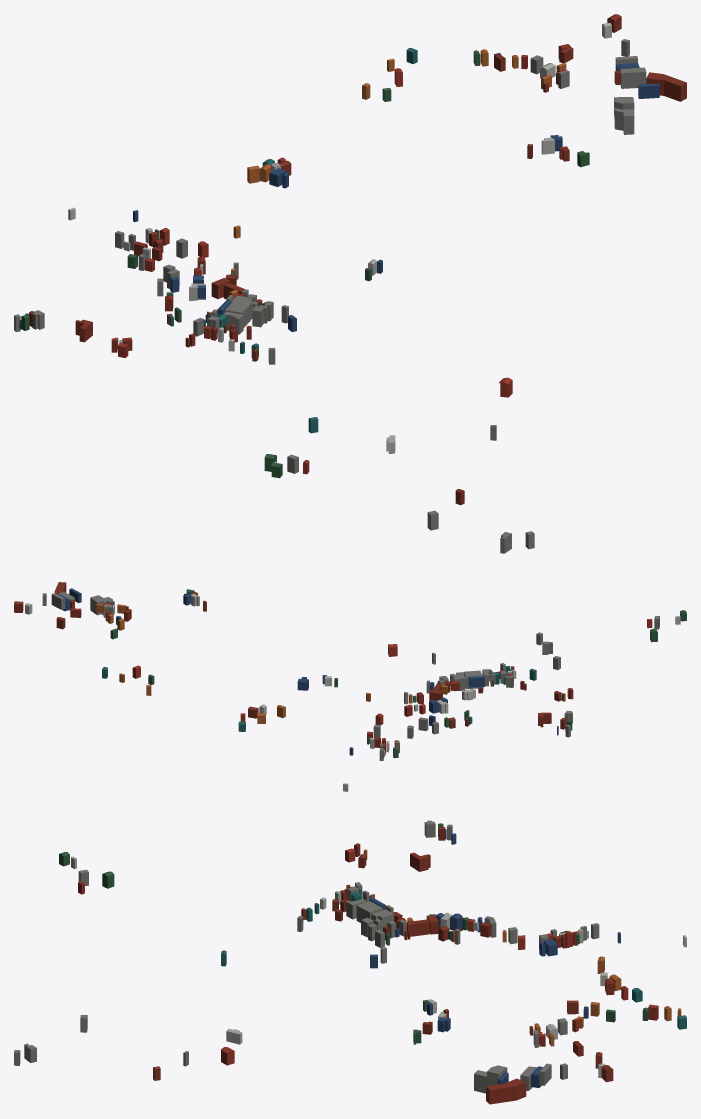
File: near-15-27366-14877.628904df.glb
3 views of the same model, one above another, from view 1: azimuth 30°, elevation 25°; view 2: azimuth 150°, elevation 25°; view 3: azimuth 270°, elevation 25° (orthographic). The views are drawn at different scales.
Size of the model in its own units: 1178 by 350 by 1081.
